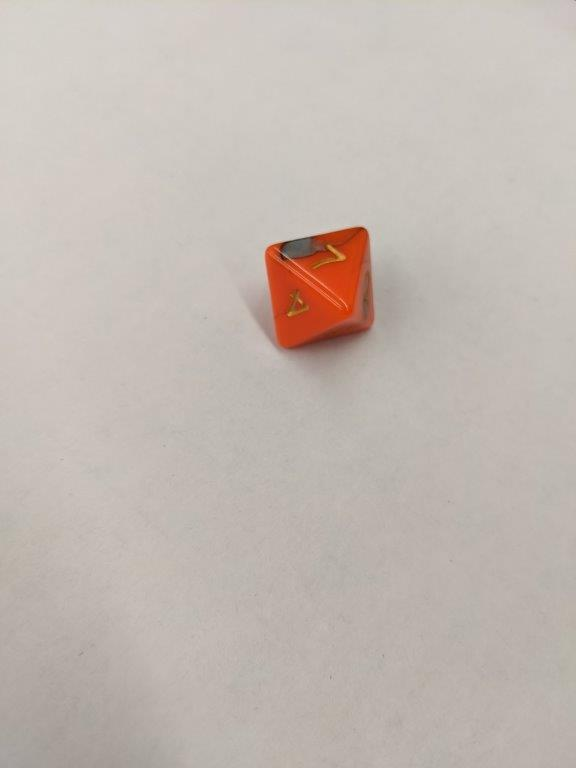d8-7: (264, 225, 376, 347)
